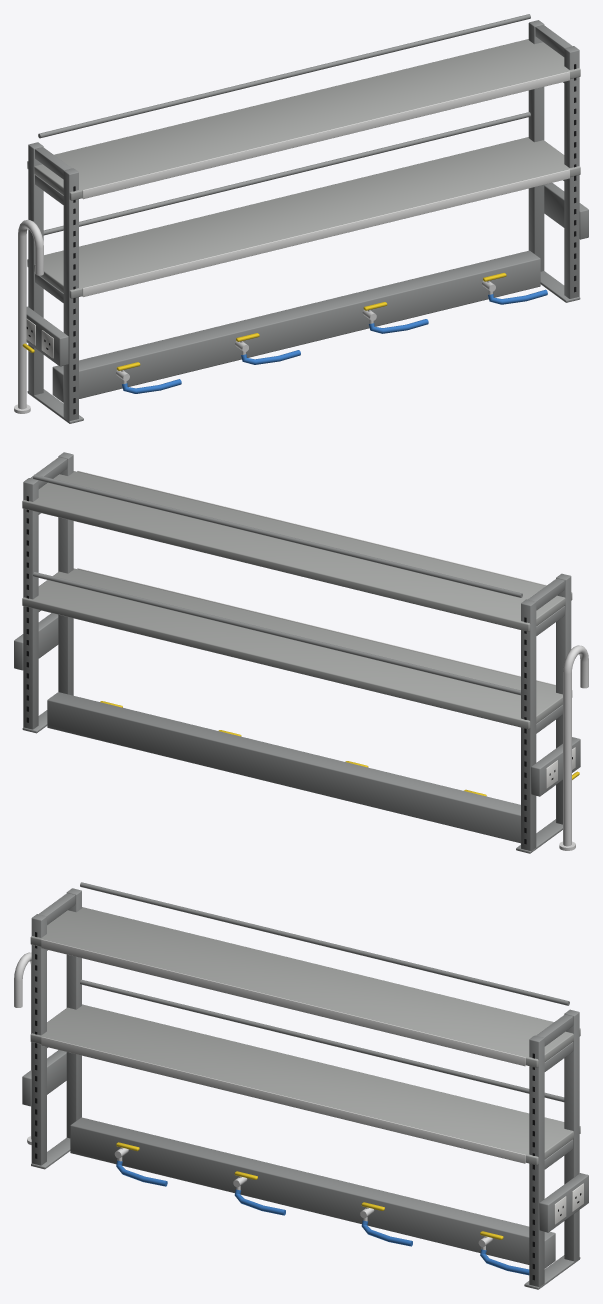
Rendered from reagent-shelf.glb.
3 renders of one model, top to bottom at view 1: azimuth 30°, elevation 25°; view 2: azimuth 150°, elevation 25°; view 3: azimuth 330°, elevation 25°, orthographic.
Parts seen in each view (by area): view 1: Board_1, Board_0, Service_bar, Label_rail_1, Label_rail_0, Post_LF, Post_RF, Back_rod_1, Back_rod_0, Post_LB, Post_RB, Tap_gooseneck (+5 smaller); view 2: Board_1, Board_0, Service_bar, Post_LB, Post_RB, Back_rod_1, Back_rod_0, Post_RF, Tap_gooseneck, Post_LF, Socket_box_L, Socket_box_R (+4 smaller); view 3: Board_0, Board_1, Service_bar, Label_rail_1, Label_rail_0, Post_RF, Post_LF, Post_RB, Back_rod_1, Back_rod_0, Post_LB, Socket_box_R (+5 smaller).
Boxes of the visible parts, bbox=[...] form: Board_1: bbox=[27, 39, 580, 200]; Board_0: bbox=[27, 137, 580, 298]; Service_bar: bbox=[52, 250, 540, 402]; Label_rail_1: bbox=[82, 71, 569, 199]; Label_rail_0: bbox=[82, 169, 569, 296]; Post_LF: bbox=[63, 168, 78, 421]; Post_RF: bbox=[564, 46, 579, 298]; Back_rod_1: bbox=[38, 14, 530, 138]; Back_rod_0: bbox=[43, 112, 530, 235]; Post_LB: bbox=[28, 142, 43, 396]; Post_RB: bbox=[528, 20, 544, 271]; Tap_gooseneck: bbox=[18, 219, 43, 409]; Board_1: bbox=[22, 471, 572, 631]; Board_0: bbox=[22, 568, 572, 729]; Service_bar: bbox=[47, 692, 520, 843]; Post_LB: bbox=[521, 599, 536, 851]; Post_RB: bbox=[23, 478, 38, 729]; Back_rod_1: bbox=[33, 474, 522, 597]; Back_rod_0: bbox=[33, 572, 520, 695]; Post_RF: bbox=[58, 452, 73, 695]; Tap_gooseneck: bbox=[563, 645, 588, 846]; Post_LF: bbox=[556, 573, 571, 824]; Socket_box_L: bbox=[531, 737, 580, 796]; Socket_box_R: bbox=[14, 613, 58, 670]; Board_0: bbox=[30, 1004, 580, 1165]; Board_1: bbox=[30, 907, 580, 1067]; Service_bar: bbox=[70, 1117, 555, 1268]; Label_rail_1: bbox=[41, 939, 525, 1066]; Label_rail_0: bbox=[41, 1036, 525, 1163]; Post_RF: bbox=[529, 1035, 544, 1287]; Post_LF: bbox=[31, 914, 46, 1165]; Post_RB: bbox=[564, 1009, 579, 1263]; Back_rod_1: bbox=[80, 882, 569, 1005]; Back_rod_0: bbox=[80, 979, 564, 1102]; Post_LB: bbox=[66, 888, 81, 1138]; Socket_box_R: bbox=[539, 1173, 588, 1232].
Bounding box in the file's own units: 1.29 × 0.58 × 0.182.
